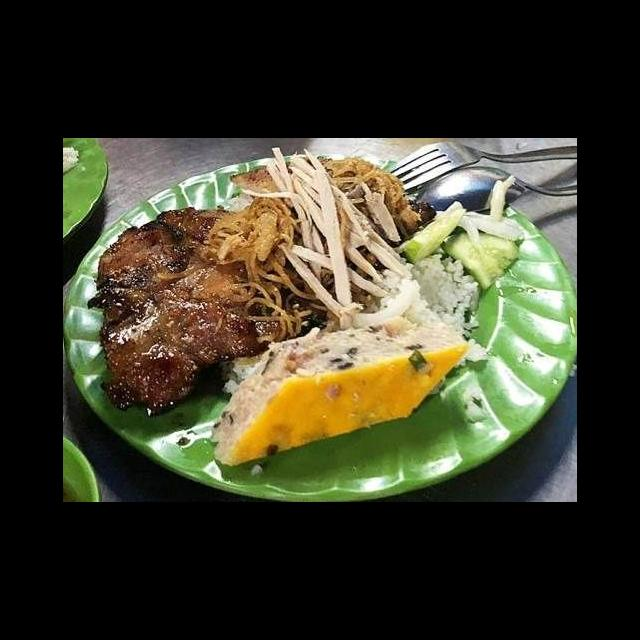bi: (203, 143, 425, 344)
cha: (206, 301, 472, 471)
com: (363, 247, 495, 370)
com suon bi cha: (63, 159, 577, 502)
dua chua: (429, 171, 534, 249)
suon: (84, 200, 334, 416)
